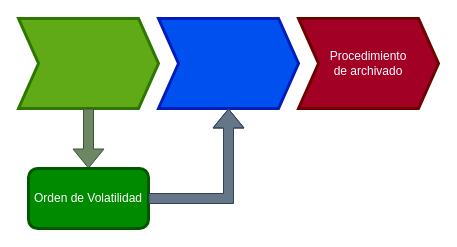
The diagram is 457 pixels wide and 247 high, and some of its shapes have lost their labels. Here are the shapes that lost their labels. From the top down, the box of each, then its label:
(16, 16, 160, 110): Pautas para la recolección de evidencia
(156, 16, 300, 110): Recolección de evidencia
